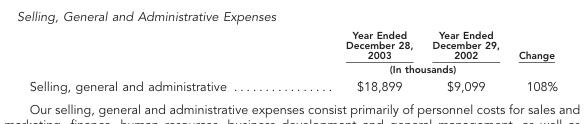table: (28, 28, 556, 93)
table column: (28, 28, 338, 93), (422, 28, 508, 93), (338, 28, 422, 93), (508, 28, 556, 93)
table column header: (28, 28, 556, 76)
table row: (28, 28, 556, 61), (28, 76, 556, 93), (28, 61, 556, 76)
table spanning cell: (338, 61, 508, 76), (508, 28, 556, 76)
